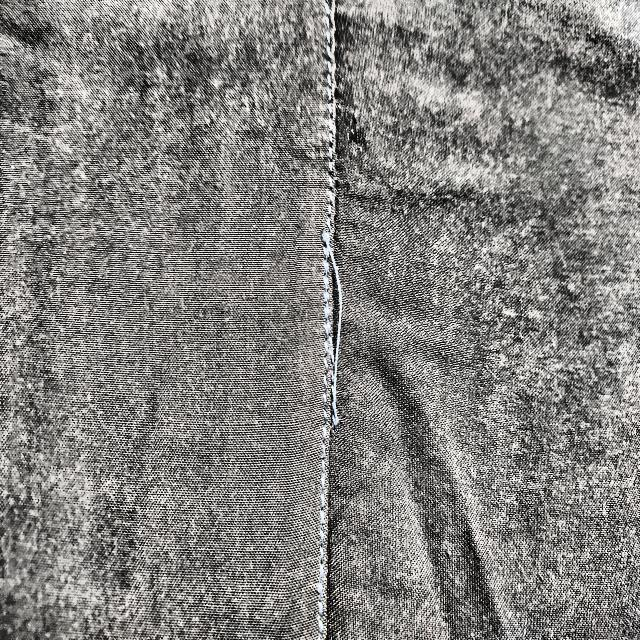gray stitch: (309, 211, 356, 477)
